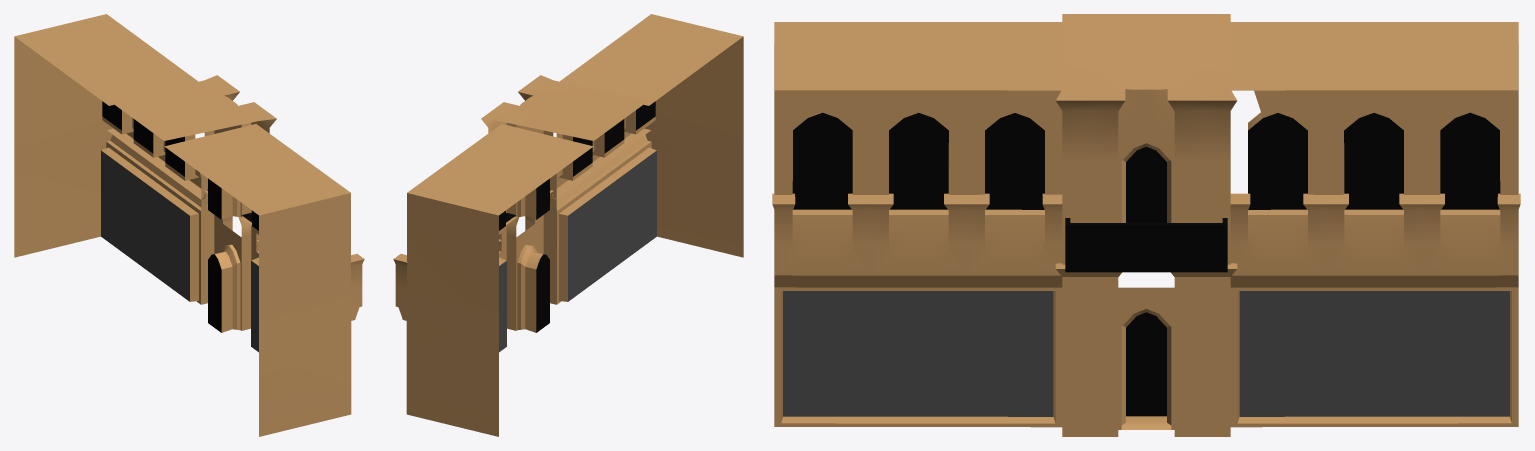
File: edificio 2.fbx
The picture shows the model from 3 angles, left to right: view 1: azimuth 30°, elevation 25°; view 2: azimuth 150°, elevation 25°; view 3: azimuth 270°, elevation 25°; orthographic projection. The views are drawn at different scales.
Visible parts, largest first — view 1: Cube, Cube_001; view 2: Cube, Cube_001; view 3: Cube, Cube_001, Cube_002.
Boxes of the visible parts, left/top/right/bottom form: Cube: left=14, top=14, right=364, bottom=436; Cube_001: left=109, top=75, right=276, bottom=225; Cube: left=393, top=14, right=743, bottom=436; Cube_001: left=481, top=75, right=648, bottom=225; Cube: left=772, top=22, right=1520, bottom=436; Cube_001: left=1055, top=14, right=1237, bottom=264; Cube_002: left=1065, top=218, right=1227, bottom=272.
Bounding box in the file's own units: 240 × 453 × 890.
